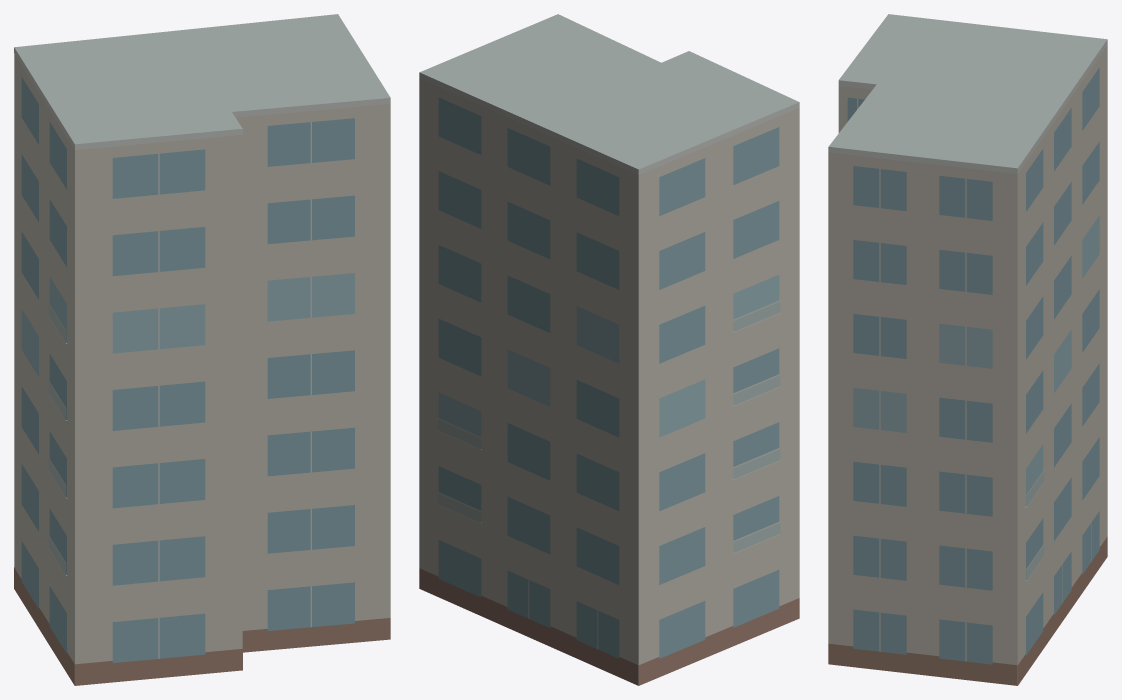
The model's file is survey-upis-32872824.glb.
The picture shows the model from 3 angles, left to right: view 1: azimuth 30°, elevation 25°; view 2: azimuth 150°, elevation 25°; view 3: azimuth 270°, elevation 25°; orthographic projection. The views are drawn at different scales.
Visible parts, largest first — view 1: survey-upis-32872824.tmp; view 2: survey-upis-32872824.tmp; view 3: survey-upis-32872824.tmp.
Boxes of the visible parts, box(x1,y1,x2,y2) form: survey-upis-32872824.tmp: box(14, 14, 390, 685); survey-upis-32872824.tmp: box(419, 14, 799, 685); survey-upis-32872824.tmp: box(828, 14, 1107, 685).
Bounding box in the file's own units: 14.24 × 22.25 × 10.88.
